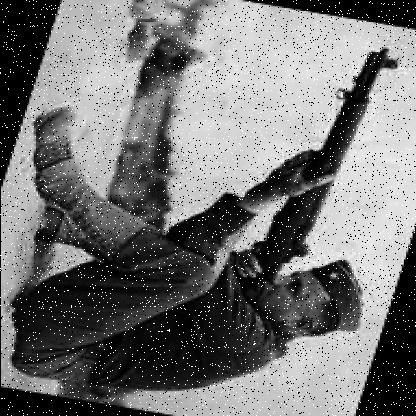rifle: (222, 30, 410, 304)
